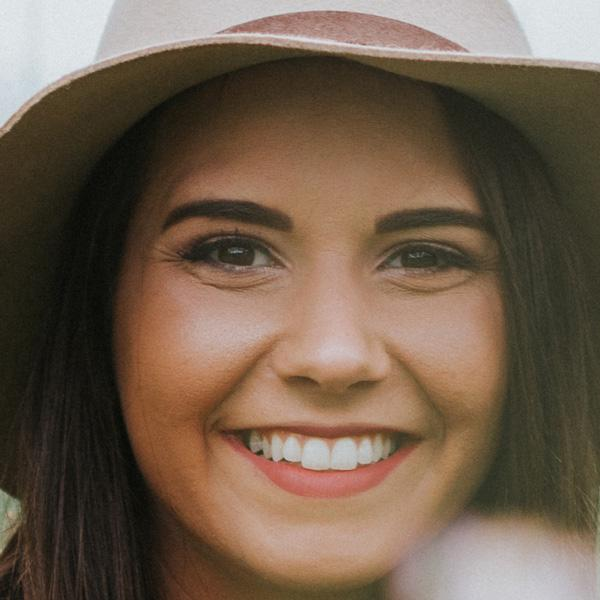Eyes: (171, 223, 292, 291), (364, 231, 476, 298)
